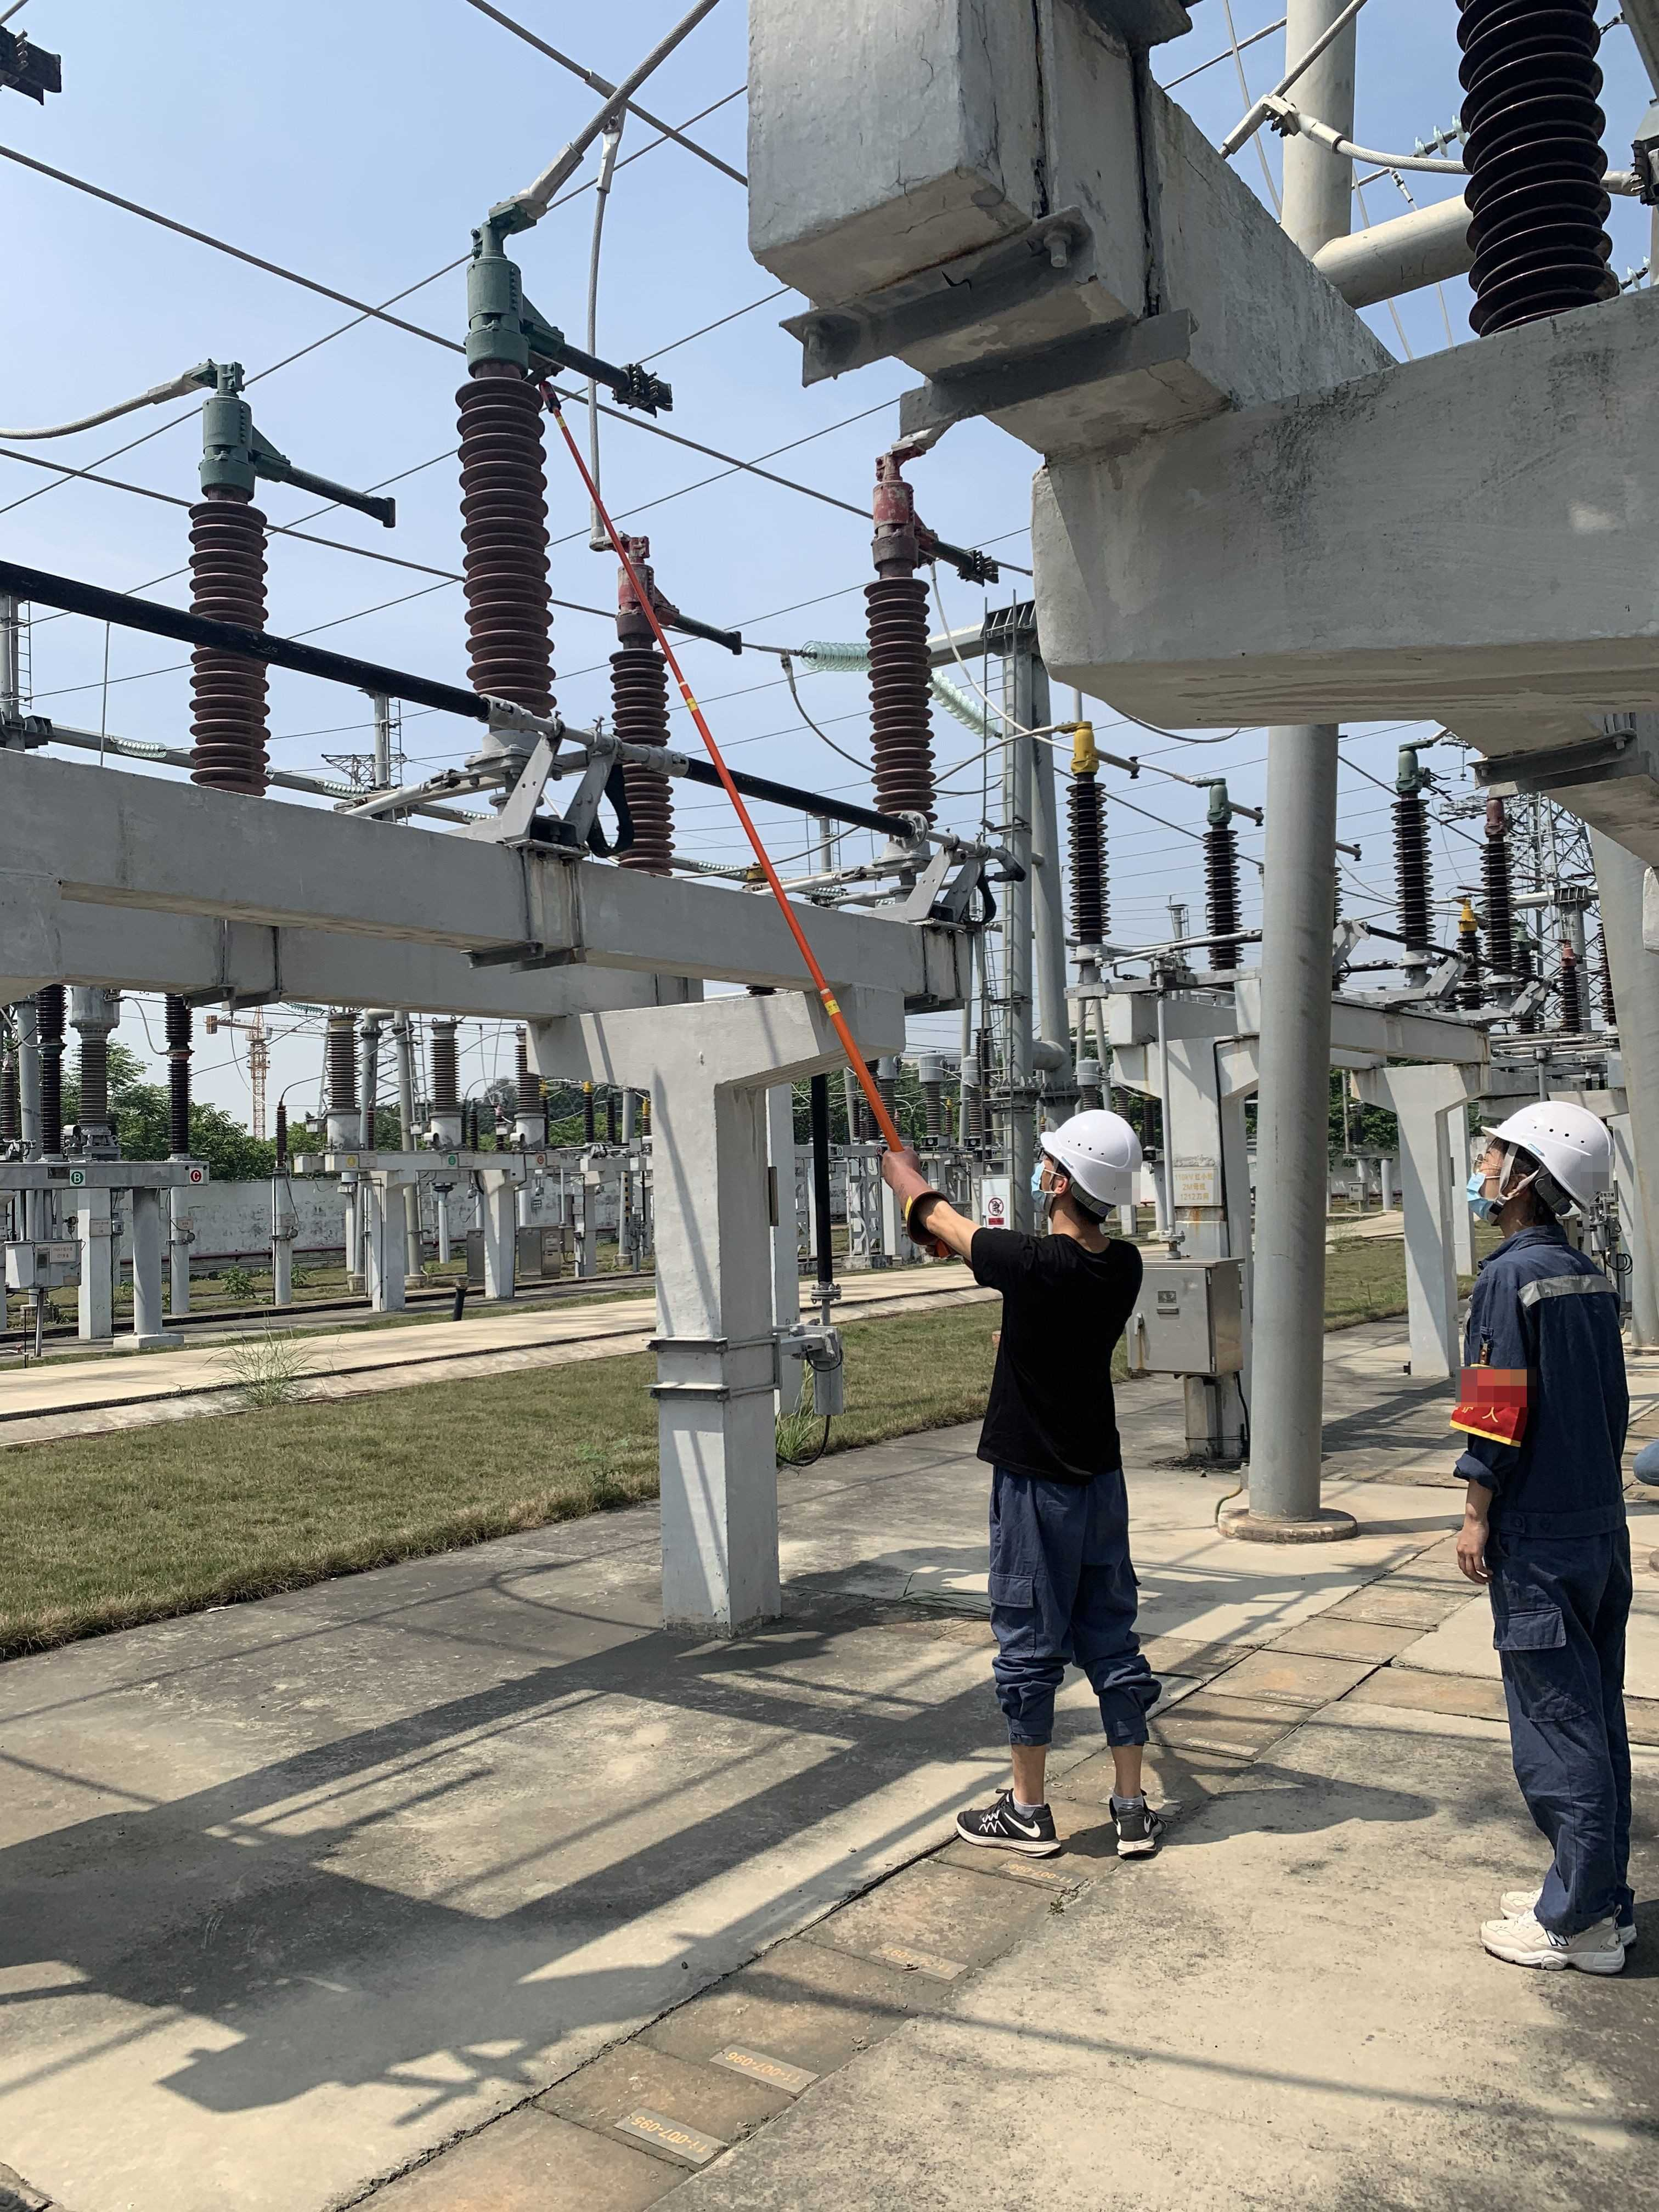downsuit: (1486, 1561, 1643, 1926), (976, 1468, 1162, 1745)
upcloth: (965, 1231, 1143, 1472)
upsuit: (1457, 1237, 1635, 1534)
wrongbottom: (993, 1717, 1159, 1815)
wrongtop: (1457, 1449, 1506, 1585)
